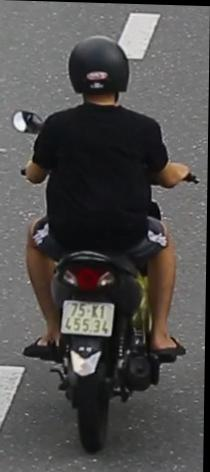LP: (61, 296, 118, 339)
helmet: (65, 30, 131, 113)
